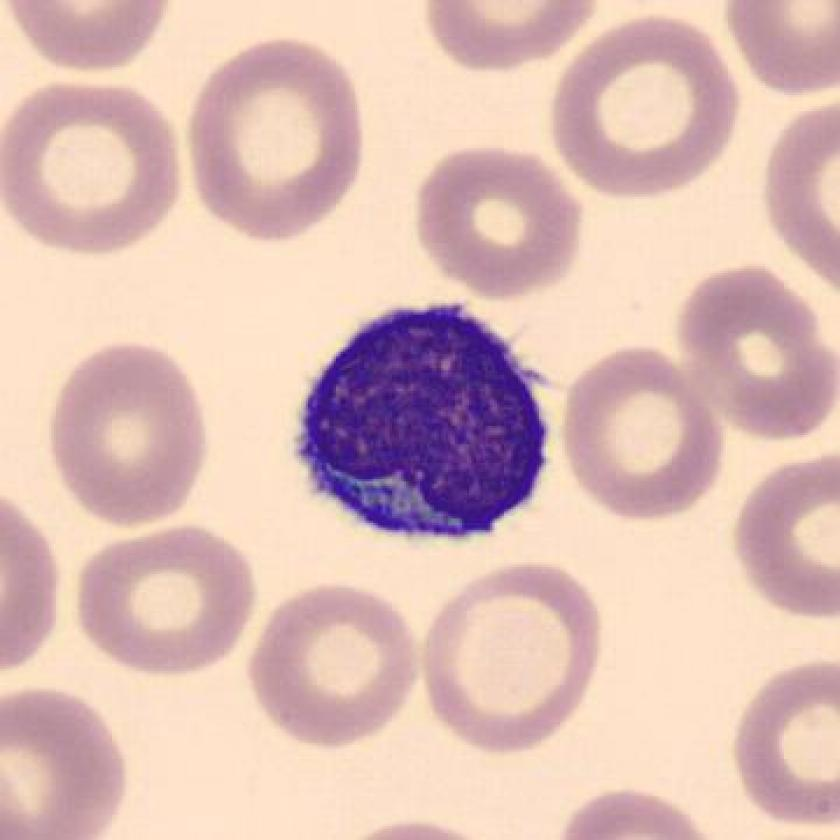lymphocyte: (281, 291, 561, 557)
